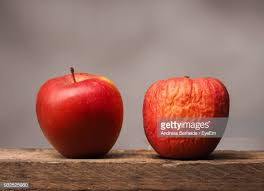apple: (38, 76, 121, 159)
damaged_apple: (144, 79, 230, 158)
